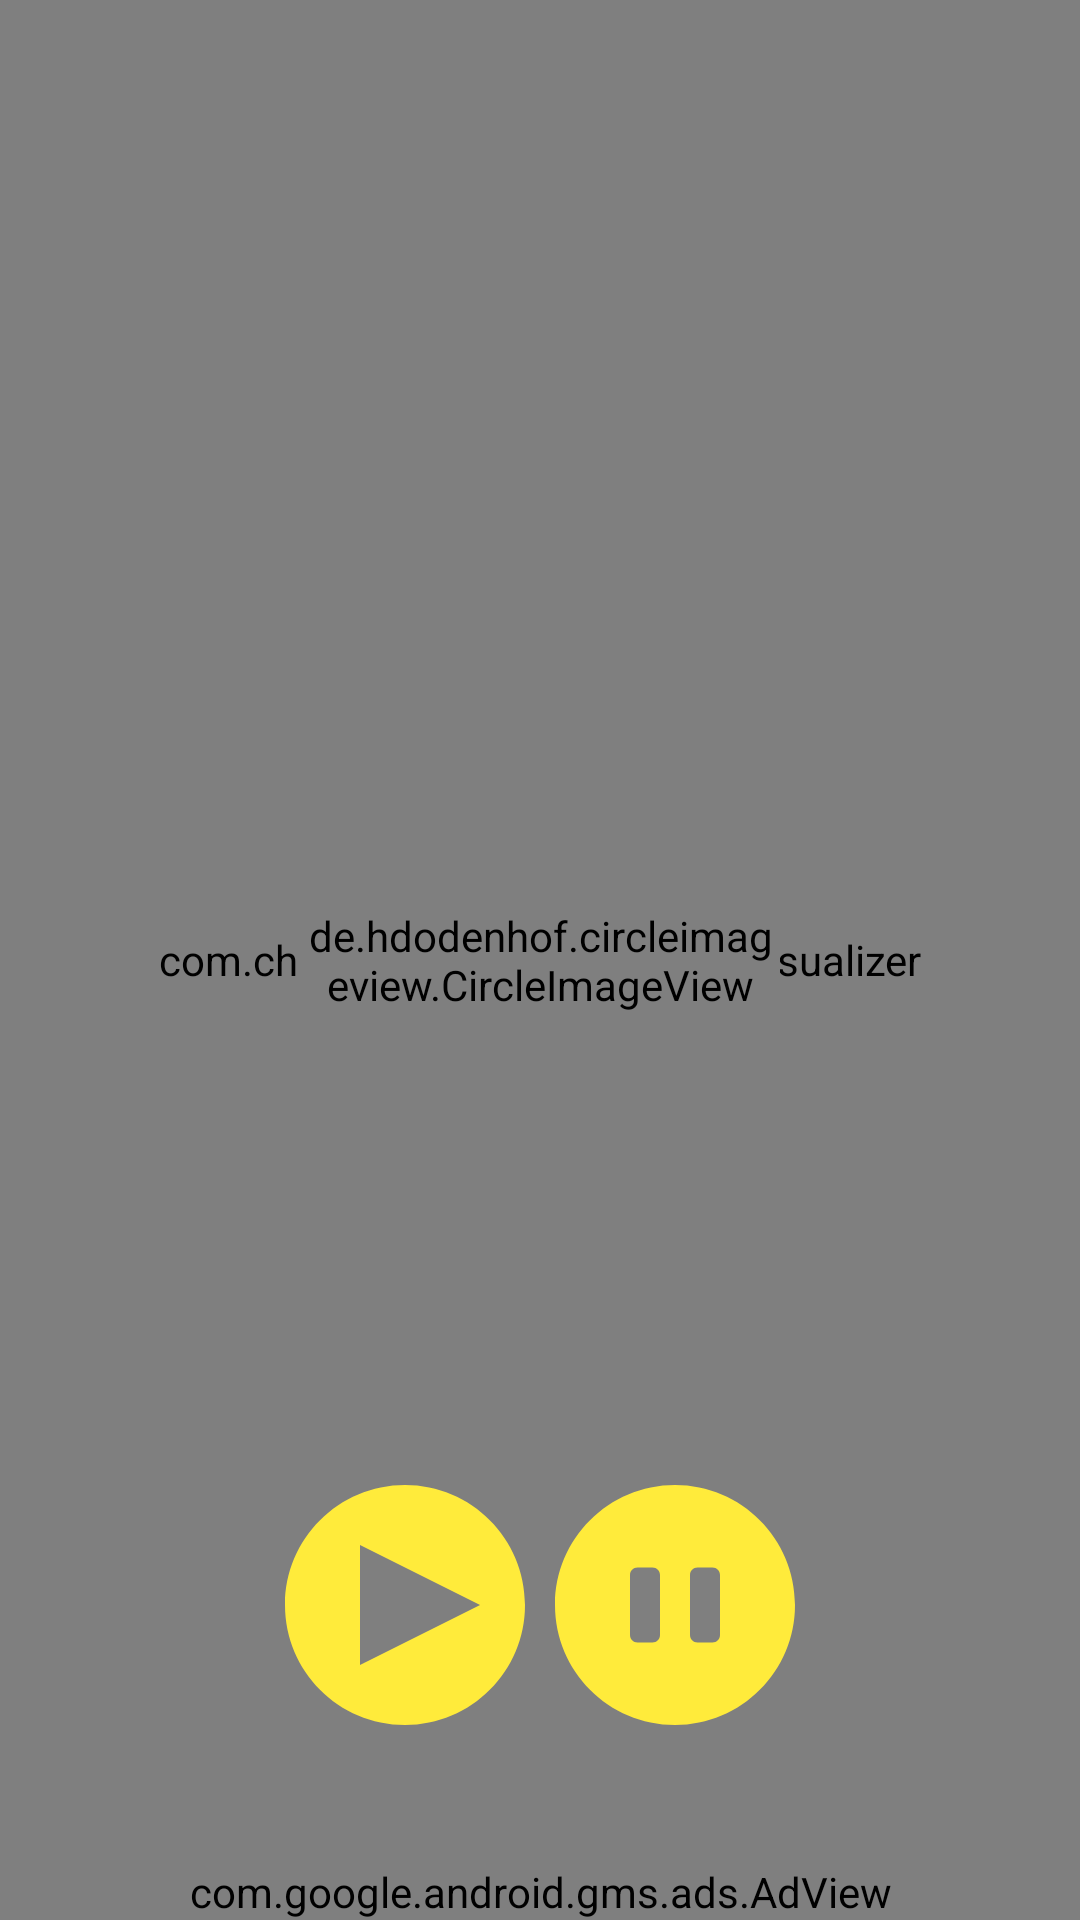

Icons on this 1080px x 1920px Android screen, each with the point to tap as (x=x, y=y):
pause: (x=675, y=1605)
play: (x=405, y=1605)
